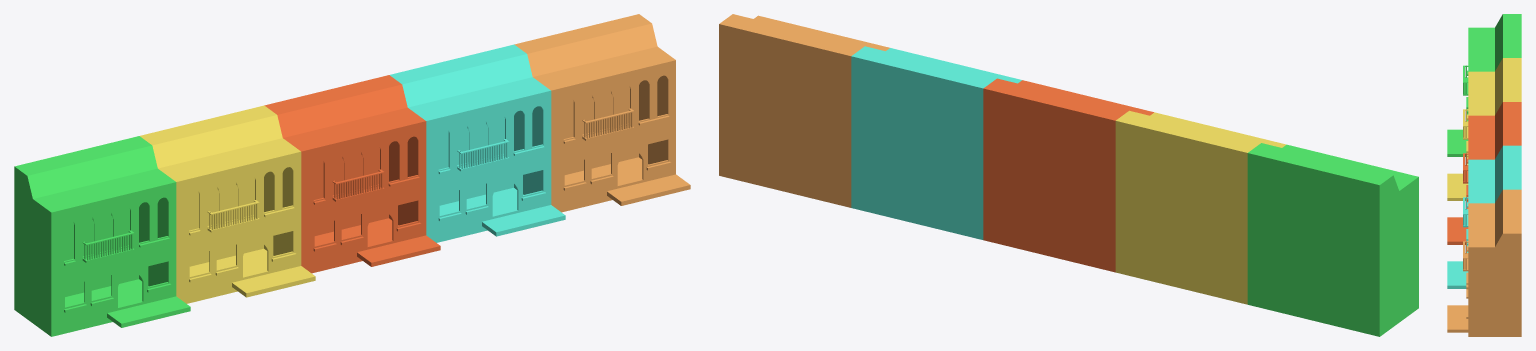
The model's file is lineofhouses.fbx.
3 views of the same model, side by side, from view 1: azimuth 30°, elevation 25°; view 2: azimuth 150°, elevation 25°; view 3: azimuth 270°, elevation 25° (orthographic). The views are drawn at different scales.
Visible parts, largest first — view 1: building facade (×10); view 2: building facade (×10); view 3: building facade (×10).
Part boxes in pixels (left/top/right/bottom): building facade (×10): left=14, top=14, right=690, bottom=336; building facade (×10): left=719, top=14, right=1418, bottom=336; building facade (×10): left=1447, top=14, right=1521, bottom=336.
Bounding box in the file's own units: 400 × 87.8 × 57.
